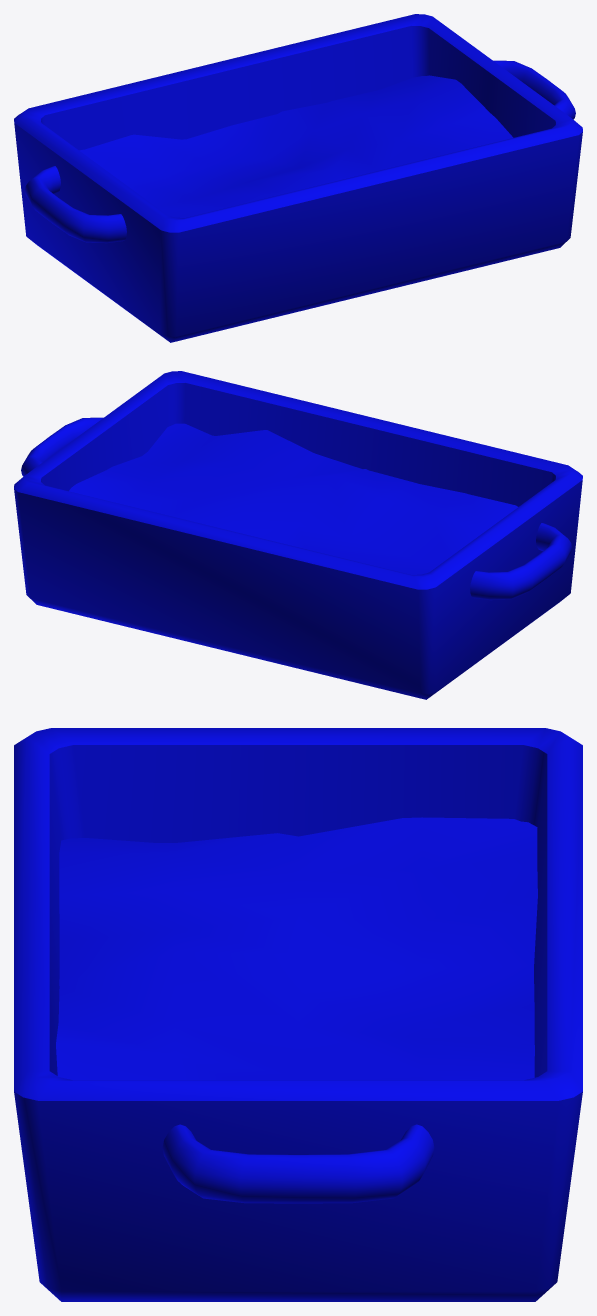
File: PartsBox.FBX
The picture shows the model from 3 angles, top to bottom: view 1: azimuth 30°, elevation 25°; view 2: azimuth 150°, elevation 25°; view 3: azimuth 270°, elevation 25°; orthographic projection. The views are drawn at different scales.
Parts seen in each view (by area): view 1: Parts_boxes; view 2: Parts_boxes; view 3: Parts_boxes.
Boxes of the visible parts, <box> form: Parts_boxes: <box>14,14,582,342</box>; Parts_boxes: <box>14,371,582,699</box>; Parts_boxes: <box>14,728,582,1301</box>.
Bounding box in the file's own units: 21.34 × 5.21 × 11.73.
